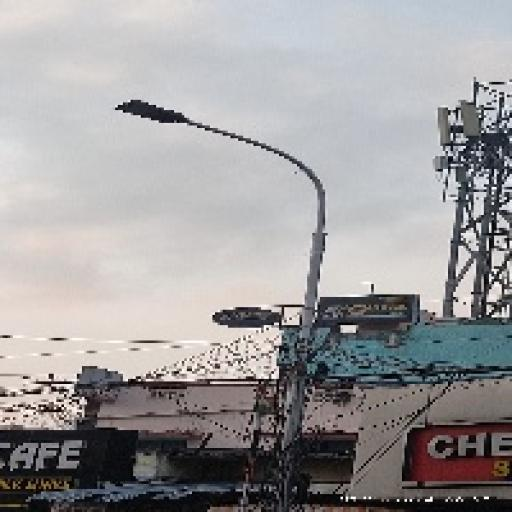Not Working: (115, 96, 192, 136)
